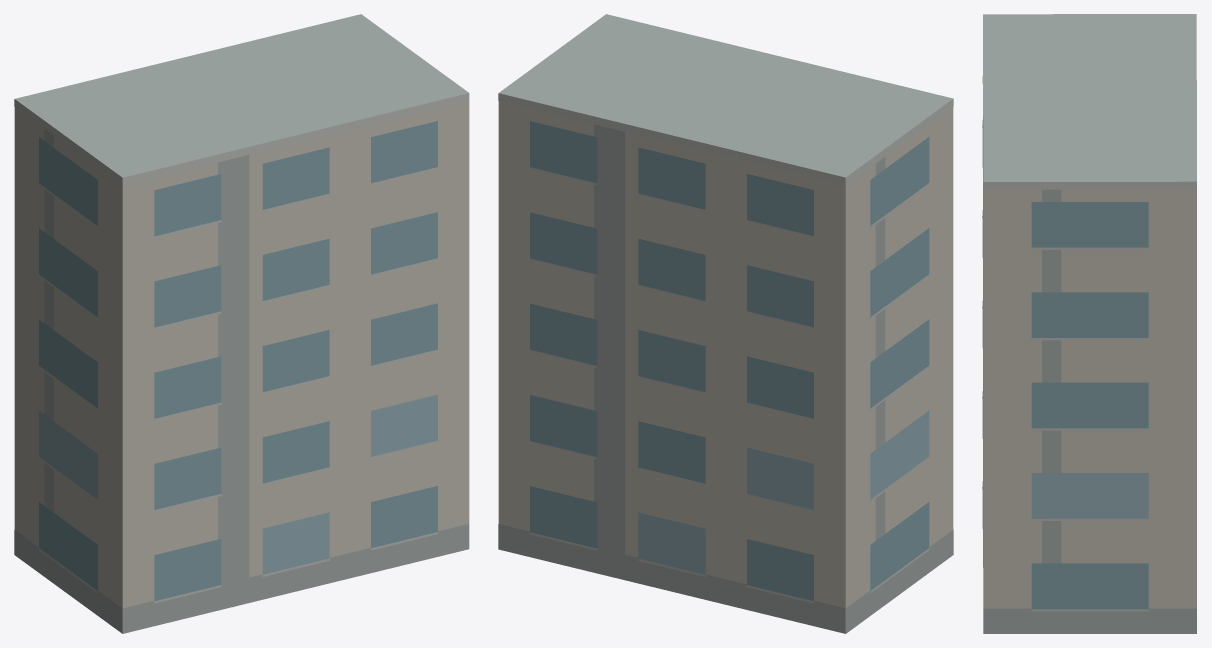
File: survey-upis-32725342.glb
The picture shows the model from 3 angles, left to right: view 1: azimuth 30°, elevation 25°; view 2: azimuth 150°, elevation 25°; view 3: azimuth 270°, elevation 25°; orthographic projection.
Parts seen in each view (by area): view 1: survey-upis-32725342.tmp; view 2: survey-upis-32725342.tmp; view 3: survey-upis-32725342.tmp.
Part boxes in pixels (x1,y1,x2,y2): survey-upis-32725342.tmp: (14, 14, 469, 633); survey-upis-32725342.tmp: (498, 14, 953, 633); survey-upis-32725342.tmp: (982, 14, 1196, 633).
Bounding box in the file's own units: 11.13 × 13.95 × 6.02.
